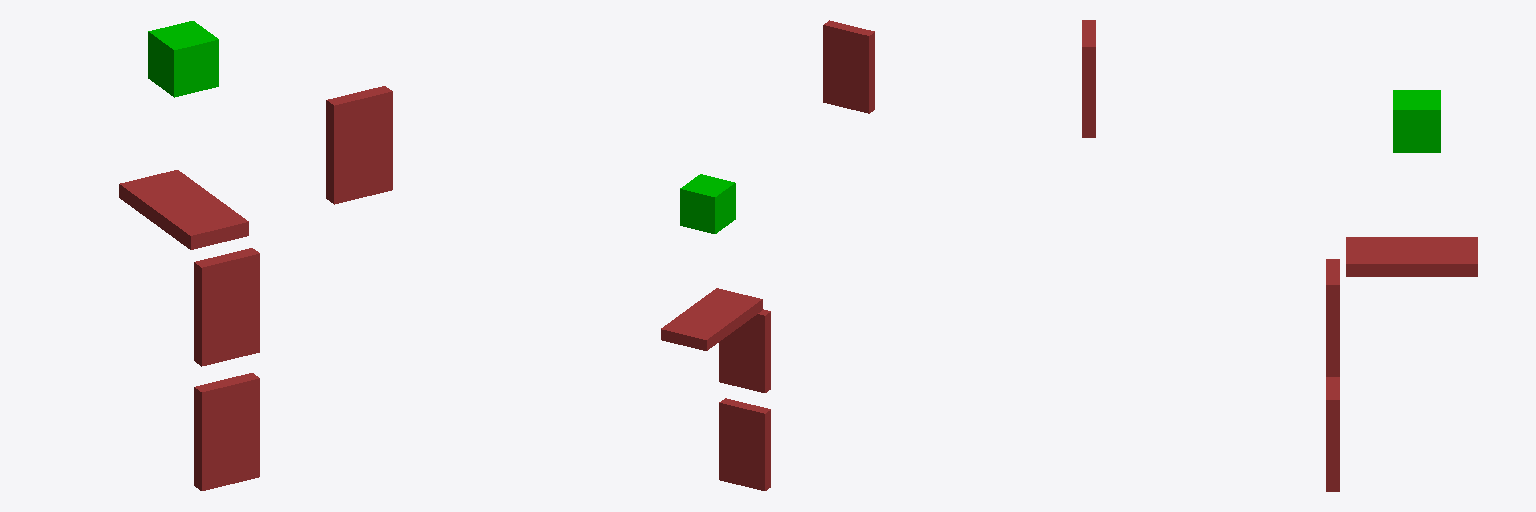
robot.urdf — cube_scene:
<?xml version="1.0"?>
  <robot name="cube_scene">
    <link name="base_link"/>

    <link name="table">
      <visual>
        <geometry>
          <mesh filename="file://[local-path]/Desktop/blenderFLEX/maze_vertical.dae" scale = " 0.50 0.50 0.50"/>
        </geometry>
        <origin rpy="0 0 0" xyz="0 0 0" />

<material name = "">
  <color rgba="0.88235294117 0.90588235294 0.96078431372 1"/>
      </material>

      </visual>

      <collision>
        <geometry>
          <mesh filename="file://[local-path]/Desktop/blenderFLEX/maze_vertical.dae" scale = " 0.50 0.50 0.50"/>
        </geometry>
        <origin rpy="0 0 0" xyz="0 0 0" />       
       </collision>
    </link>

    <link name="cube1">
      <visual>
        <geometry>
          <box size="0.1 0.1 0.1"/>
        </geometry>
        <origin rpy="0 0 0" xyz="0 0 0" />
      <material name = "">
          <color rgba="0.0 0.8 0.0 1.0"/>
      </material>
      </visual>
      <collision>
        <geometry>
          <box size="0.1 0.1 0.1"/>
        </geometry>
        <origin rpy="0 0 0" xyz="0 0 0" />       
       </collision>
    </link>

     <link name="door1">
      <visual>
        <geometry>
          <box size="0.13 0.275 0.03"/>
        </geometry>
        <origin rpy="0 0 0" xyz="0.0 -0.1375 0" />
        <material name = "">
          <color rgba="0.6901 0.2509 0.2509 1.0"/>
      </material>
      </visual>
      <collision>
         <geometry>
          <box size="0.13 0.275 0.03"/>
        </geometry>
        <origin rpy="0 0 0" xyz="0.0 -0.1375 0" />      
       </collision>
    </link>

     <link name="door2">
      <visual>
      <origin rpy="0 0 0" xyz="0 0 0.105" />
        <geometry>
          <box size="0.13 0.03 0.21"/>
        </geometry>
             <material name = "">
          <color rgba="0.6901 0.2509 0.2509 1.0"/>
      </material>
      </visual>
      <collision>       
        <origin rpy="0 0 0" xyz="0 0 0.105" />
        <geometry>
          <box size="0.13 0.03 0.21"/>
        </geometry>
       </collision>
    </link>


     <link name="door3">
      <visual>
      <origin rpy="0 0 0" xyz="0 0 0.105" />
        <geometry>
          <box size="0.13 0.03 0.21"/>
        </geometry>
             <material name = "">
          <color rgba="0.6901 0.2509 0.2509 1.0"/>
      </material>
      </visual>
      <collision>       
        <origin rpy="0 0 0" xyz="0 0 0.105" />
        <geometry>
          <box size="0.13 0.03 0.21"/>
        </geometry>
       </collision>
    </link>


  <link name="door4">
      <visual>
      <origin rpy="0 0 0" xyz="0 0 0.105" />
        <geometry>
          <box size="0.13 0.03 0.21"/>
        </geometry>
             <material name = "">
          <color rgba="0.6901 0.2509 0.2509 1.0"/>
      </material>
      </visual>
      <collision>       
        <origin rpy="0 0 0" xyz="0 0 0.105" />
        <geometry>
          <box size="0.13 0.03 0.21"/>
        </geometry>
       </collision>
    </link>


<link name ="cube_x"/>

<joint name="table_j" type="fixed">
    <origin rpy="1.57 1.57 -1.57" xyz="1.25 -0.3 1.0" />
    <parent link="base_link" />
    <child link="table" />
    <axis xyz="0 1 0" />
  </joint>



<joint name="cube_joint" type="prismatic">
    <origin rpy="0 0 0" xyz="0.75 0.1 1.3" />
    <parent link="base_link" />
    <child link="cube_x" />
   <axis xyz="0 1 0" />
  <limit lower="-0.9" upper="0.2" effort="0.05" velocity="1.57"/>
  </joint>


<joint name="cube_joint2" type="prismatic">
    <origin rpy="0 0 0" xyz="0.0 0 0.0" />
    <parent link="cube_x" />
    <child link="cube1" />
   <axis xyz="0 0 1" />
  <limit lower="-0.8" upper="0.1" effort="0.05" velocity="1.57"/>
  </joint>


    <joint name="door_joint1" type="revolute">
        <origin rpy="0 0 0" xyz="0.745 0.2275 0.985"/>
        <parent link="base_link"/>
        <child link="door1"/>
        <axis xyz="1 0 0"/>
        <limit lower="-1.57" upper="1.57" effort="0.05" velocity="1.57"/>
    </joint>


    <joint name="door_joint2" type="revolute">
        <origin rpy="0 0 0" xyz="0.745 -0.075 0.74"/>
        <parent link="base_link"/>
        <child link="door2"/>
        <axis xyz="1 0 0"/>
        <limit lower="-1.57" upper="1.57" effort="0.05" velocity="1.57"/>
    </joint>


 <joint name="door_joint3" type="revolute">
        <origin rpy="0 0 0" xyz="0.745 -0.075 0.475"/>
        <parent link="base_link"/>
        <child link="door3"/>
        <axis xyz="1 0 0"/>
        <limit lower="-1.57" upper="0.0" effort="0.05" velocity="1.57"/>
    </joint>



     <joint name="door_joint4" type="revolute">
        <origin rpy="0 0 0" xyz="0.745 -0.585 1.29"/>
        <parent link="base_link"/>
        <child link="door4"/>
        <axis xyz="1 0 0"/>
        <limit lower="-1.57" upper="1.57" effort="0.05" velocity="1.57"/>
    </joint>

</robot>

--- What the picture shows (computed from the rendered views, not written in the file) ---
Views: 3 orthographic renders of the robot side by side, from view 1: azimuth 30°, elevation 25°; view 2: azimuth 150°, elevation 25°; view 3: azimuth 270°, elevation 25°.
Robot: cube_scene — 8 links, 7 joints (4 revolute, 2 prismatic, 1 fixed); root link base_link; default pose: all joints at 0.
Links seen in each view (by area): view 1: door4, door2, door3, door1, cube1; view 2: door4, door3, door1, door2, cube1; view 3: door1, cube1, door2, door4, door3.
Boxes of the visible links, bbox=[...] form: door4: bbox=[326, 86, 392, 204]; door2: bbox=[194, 248, 259, 366]; door3: bbox=[194, 373, 259, 490]; door1: bbox=[119, 170, 248, 249]; cube1: bbox=[148, 21, 218, 97]; door4: bbox=[823, 20, 874, 113]; door3: bbox=[719, 398, 770, 490]; door1: bbox=[661, 288, 762, 350]; door2: bbox=[719, 309, 770, 392]; cube1: bbox=[680, 174, 735, 233]; door1: bbox=[1346, 237, 1477, 276]; cube1: bbox=[1393, 90, 1440, 152]; door2: bbox=[1326, 259, 1339, 376]; door4: bbox=[1082, 20, 1095, 137]; door3: bbox=[1326, 377, 1339, 491].
Size in the robot's own frame: 0.13 by 0.8275 by 1.02 metres.
Geometry: only primitive shapes (box / cylinder / sphere) drawn; not drawn: 1 mesh visual (reference in a form the renderer does not follow).